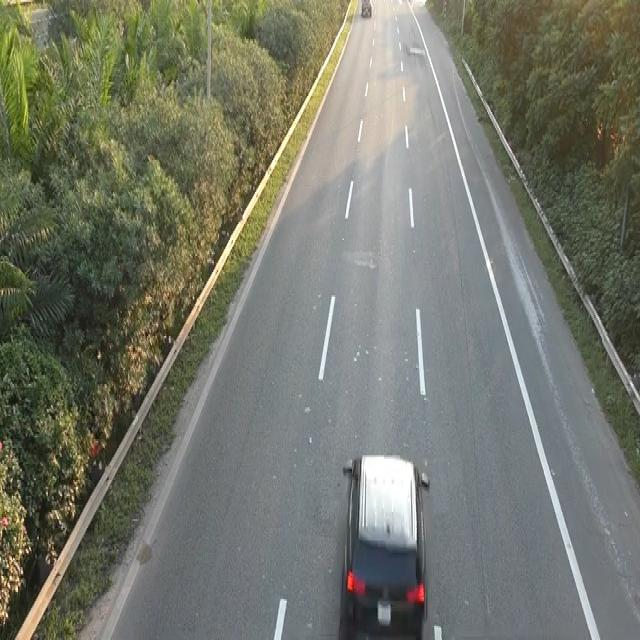car: (337, 448, 431, 635), (359, 0, 372, 18)
